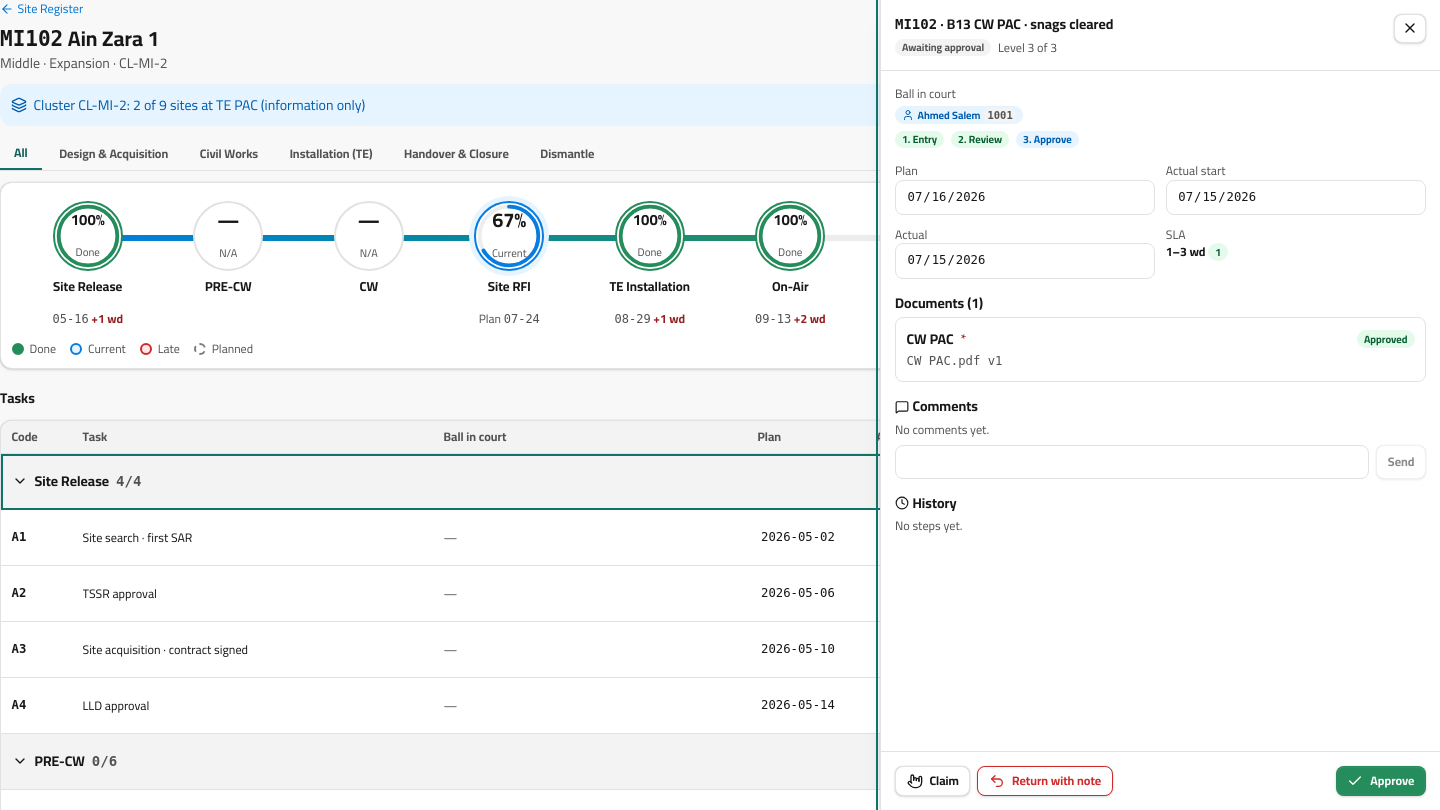
it: Task actions on the real endpoints › says in plain words that snags are open (422 open_snags) and rolls back
The image size is (1440, 810).
Click the button with test id "drawer-approve": click(1381, 781) top-left (1336, 766), bottom-right (1426, 796)
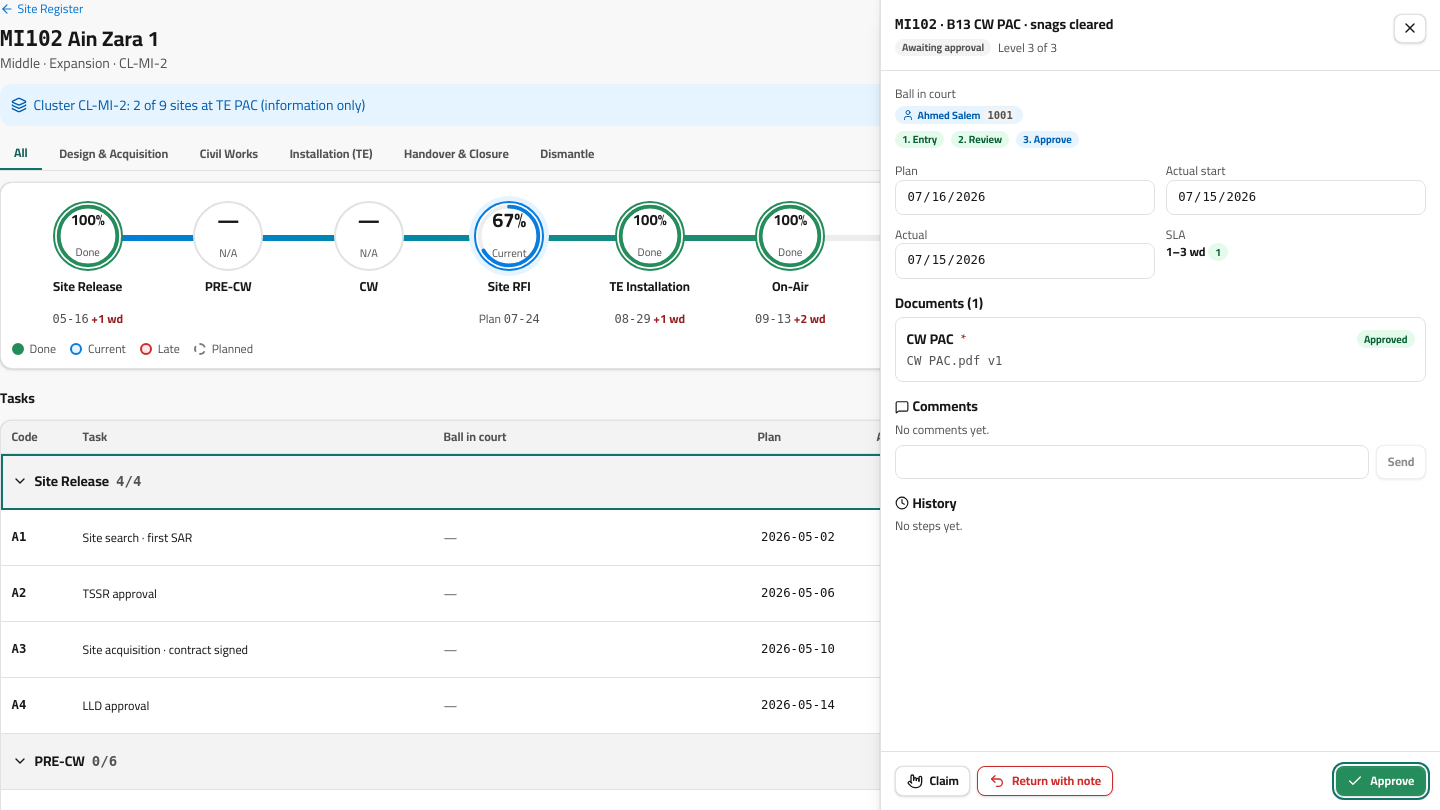
Check: the text with test id "drawer-state" reads "Awaiting approval", box top-left (902, 37), bottom-right (984, 57)
Check: the text "while snags are still open" is shown, box top-left (1030, 768), bottom-right (1411, 790)
